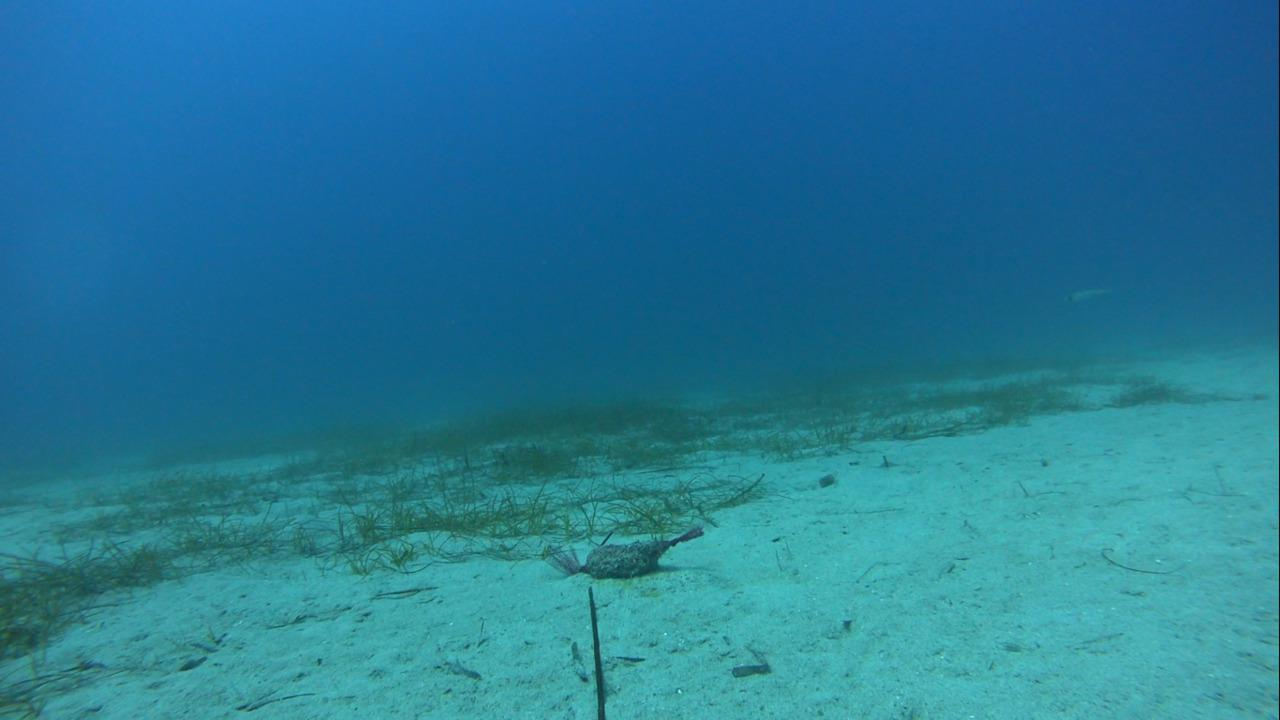dactylopterus: (1060, 277, 1123, 306)
